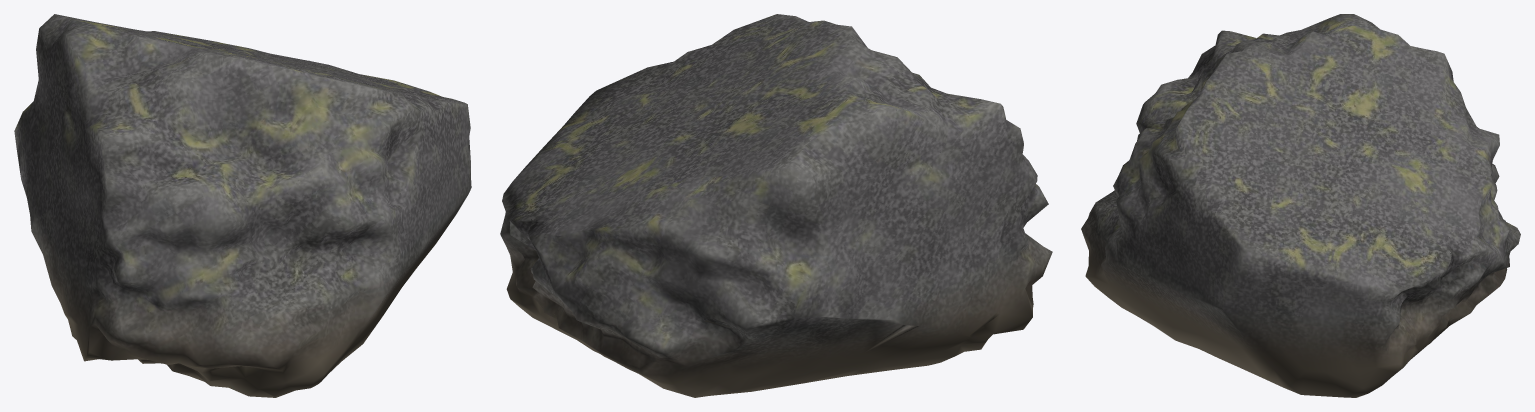
File: rock_b.glb
The picture shows the model from 3 angles, left to right: view 1: azimuth 30°, elevation 25°; view 2: azimuth 150°, elevation 25°; view 3: azimuth 270°, elevation 25°; orthographic projection. The views are drawn at different scales.
Parts seen in each view (by area): view 1: rock_b; view 2: rock_b; view 3: rock_b.
Boxes of the visible parts, bbox=[...] form: rock_b: bbox=[14, 14, 471, 397]; rock_b: bbox=[500, 14, 1052, 397]; rock_b: bbox=[1081, 14, 1520, 397].
Size of the model in its own units: 1.81 by 1.22 by 1.91.
1 material, 1 textured.
